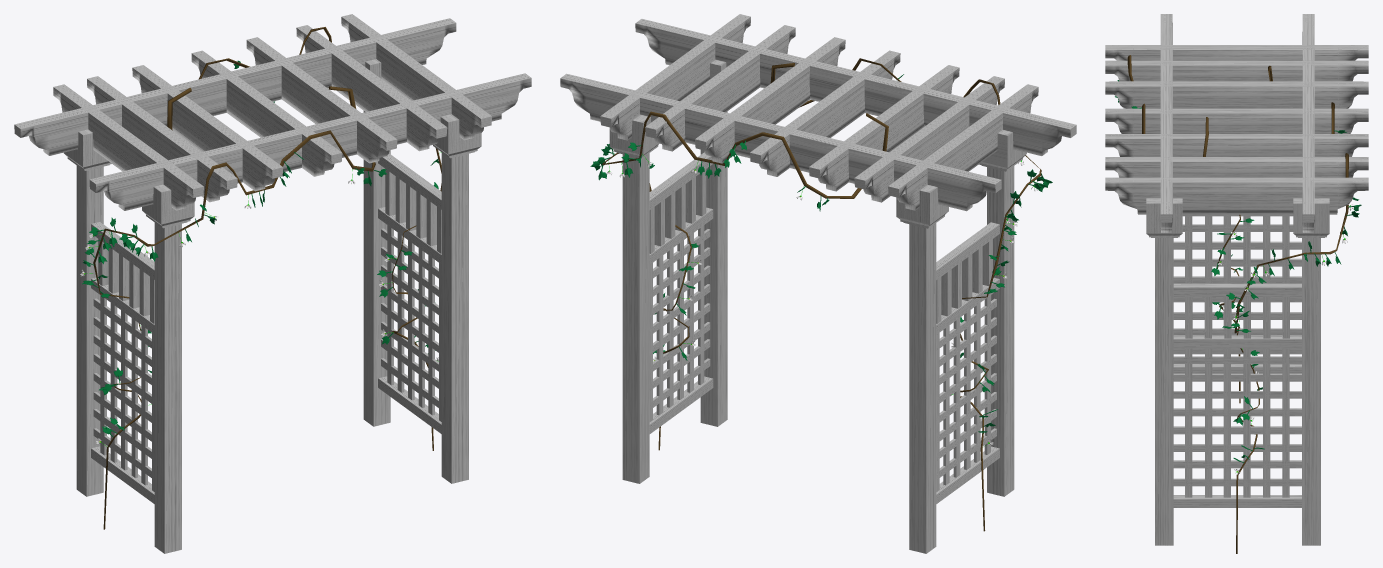
File: vinegateway.fbx
3 views of the same model, side by side, from view 1: azimuth 30°, elevation 25°; view 2: azimuth 150°, elevation 25°; view 3: azimuth 270°, elevation 25° (orthographic). The views are drawn at different scales.
Parts seen in each view (by area): view 1: leg4, leg1, longbar1, longbar2, leg3, leg, topbar16, topbar17, topbar15, topbar14, topbar11, topbar18 (+17 smaller); view 2: leg3, leg, longbar2, longbar1, leg4, leg1, topbar16, topbar15, topbar14, topbar17, topbar11, topbar18 (+19 smaller); view 3: topbar18, leg1, leg, topbar14, topbar15, topbar16, topbar13, topbar17, topbar11, longbar1, longbar2, horizontallongbar (×2) (+34 smaller).
Part boxes in pixels (x1=…): leg4: x1=142, y1=184, x2=194, y2=553; leg1: x1=433, y1=114, x2=481, y2=483; longbar1: x1=14, y1=18, x2=456, y2=155; longbar2: x1=89, y1=73, x2=531, y2=210; leg3: x1=64, y1=129, x2=111, y2=496; leg: x1=363, y1=59, x2=390, y2=426; topbar16: x1=246, y1=37, x2=397, y2=163; topbar17: x1=296, y1=25, x2=447, y2=151; topbar15: x1=191, y1=50, x2=342, y2=176; topbar14: x1=132, y1=65, x2=283, y2=191; topbar11: x1=53, y1=84, x2=203, y2=210; topbar18: x1=341, y1=14, x2=491, y2=140; leg3: x1=896, y1=185, x2=948, y2=553; leg: x1=609, y1=114, x2=658, y2=483; longbar2: x1=635, y1=19, x2=1076, y2=155; longbar1: x1=560, y1=73, x2=1001, y2=211; leg4: x1=979, y1=130, x2=1026, y2=496; leg1: x1=700, y1=59, x2=727, y2=426; topbar16: x1=695, y1=37, x2=845, y2=163; topbar15: x1=750, y1=50, x2=900, y2=176; topbar14: x1=809, y1=65, x2=959, y2=191; topbar17: x1=645, y1=25, x2=795, y2=151; topbar11: x1=888, y1=84, x2=1038, y2=210; topbar18: x1=600, y1=14, x2=750, y2=140; topbar18: x1=1105, y1=177, x2=1368, y2=214; leg1: x1=1146, y1=198, x2=1182, y2=545; leg: x1=1293, y1=198, x2=1329, y2=545; topbar14: x1=1105, y1=81, x2=1368, y2=108; topbar15: x1=1105, y1=108, x2=1368, y2=133; topbar16: x1=1105, y1=134, x2=1368, y2=156; topbar13: x1=1105, y1=60, x2=1368, y2=81; topbar17: x1=1105, y1=157, x2=1368, y2=177; topbar11: x1=1105, y1=45, x2=1368, y2=60; longbar1: x1=1302, y1=14, x2=1314, y2=232; longbar2: x1=1160, y1=14, x2=1172, y2=232; horizontallongbar (×2): x1=1173, y1=224, x2=1301, y2=363.
Bounding box in the file's own units: 12.26 × 10.89 × 6.81.
